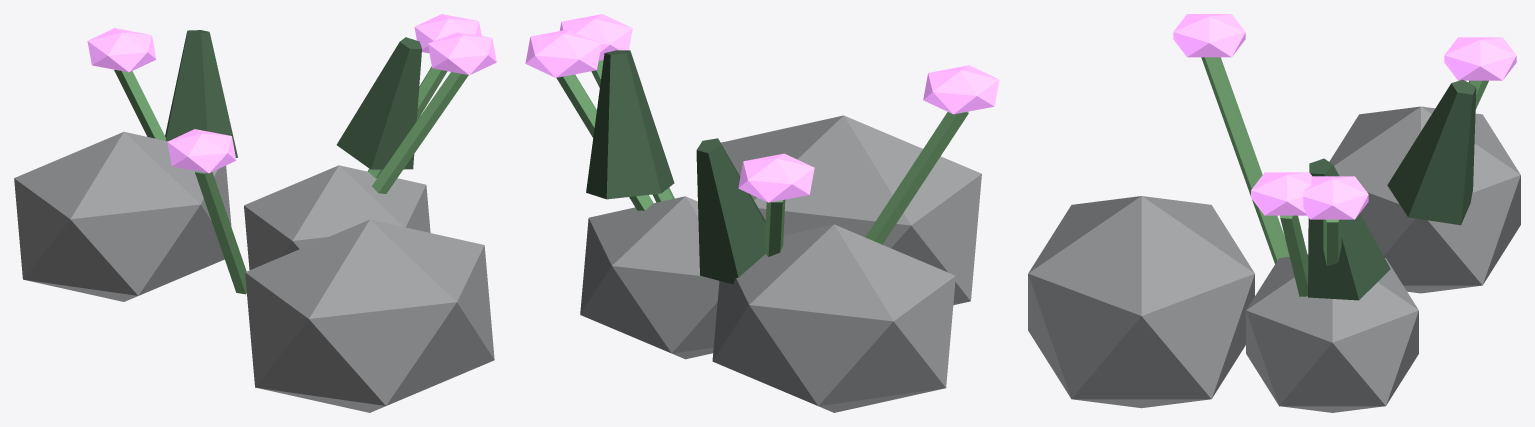
Rendered from gravewood_moss_and_nightshade.lod1.glb.
3 views of the same model, side by side, from view 1: azimuth 30°, elevation 25°; view 2: azimuth 150°, elevation 25°; view 3: azimuth 270°, elevation 25° (orthographic). The views are drawn at different scales.
Bounding box in the file's own units: 1.36 × 0.9074 × 1.27.
